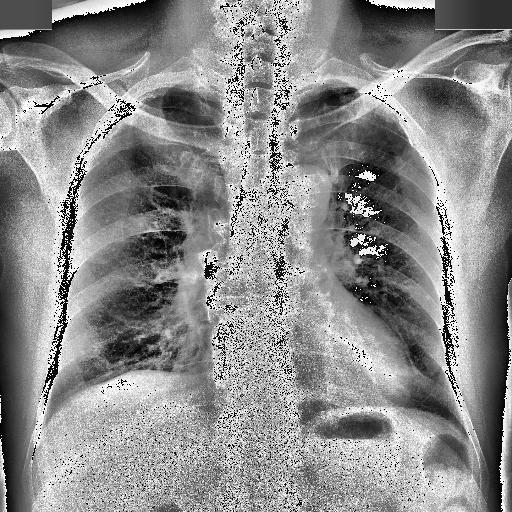0- Aortic enlargement: (258, 161, 334, 231), (266, 163, 335, 231), (283, 165, 332, 215)
11- Pleural thickening: (102, 79, 202, 138), (384, 102, 418, 150), (120, 82, 196, 100), (300, 90, 356, 102)
2- Calcification: (424, 294, 432, 300)
3- Cardiomegaly: (208, 321, 418, 407), (202, 320, 420, 401)
